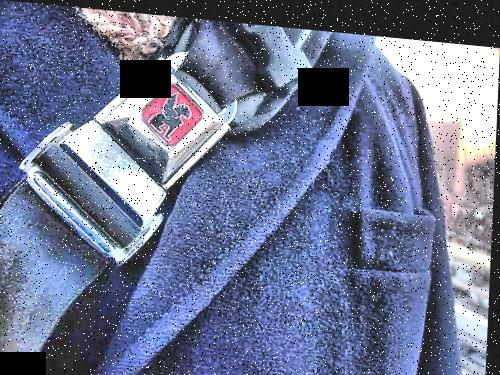seatbelt: (0, 20, 268, 296)
